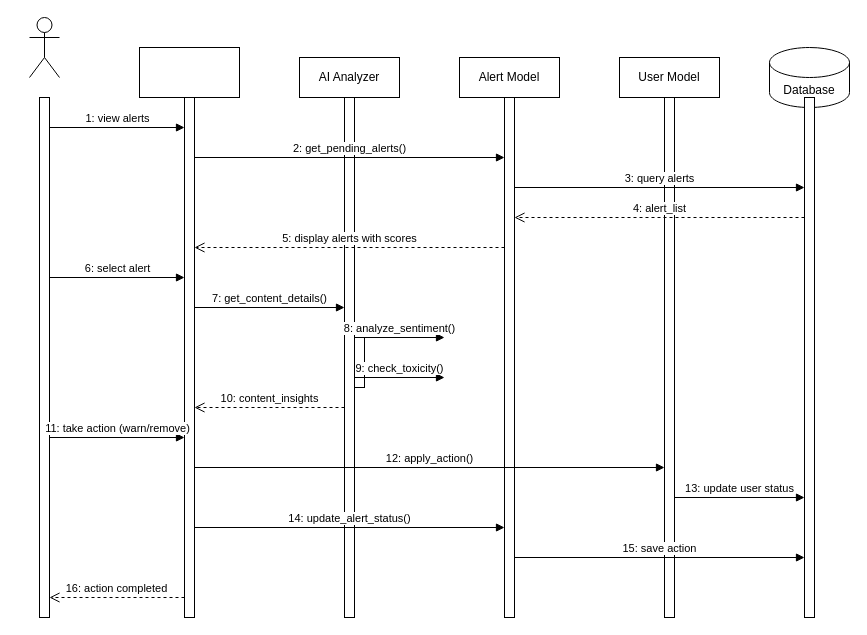
Image size: 867x635. Some labels were removed from this diagram. Here are the shapes that lost their labels. From the top down, the box of each, then its label:
(28, 16, 60, 78): SubAdmin
(138, 46, 240, 98): Moderation\nDashboard
